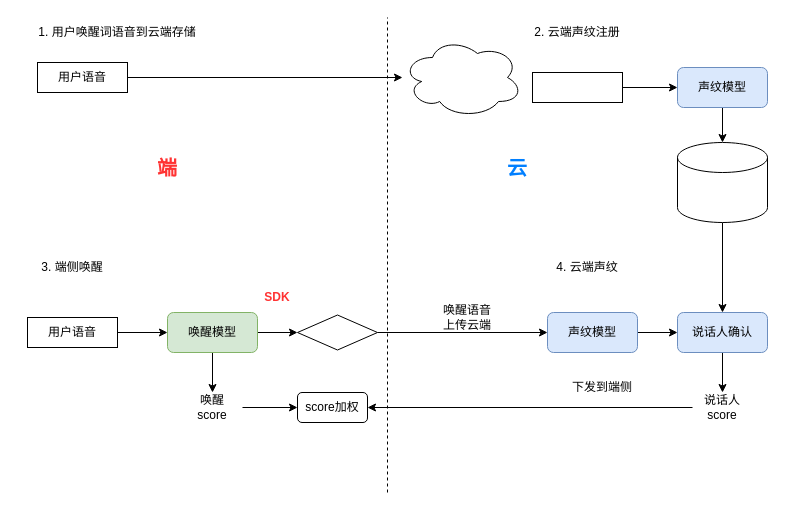
The diagram is 785 pixels wide and 511 high, and some of its shapes have lost their labels. Here are the shapes that lost their labels. From the top down, the box of each, then its label:
(532, 72, 622, 102): 云端保存语音
(676, 142, 768, 222): 用户声纹embedding
(296, 314, 378, 350): 唤醒？
